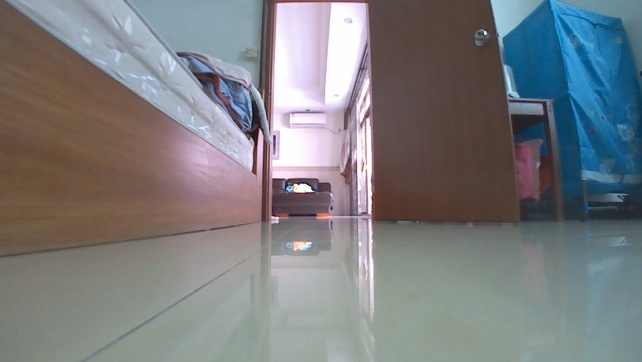bed1: (0, 0, 269, 259)
door_anno: (367, 0, 521, 237)
sofa1: (271, 174, 335, 218)
